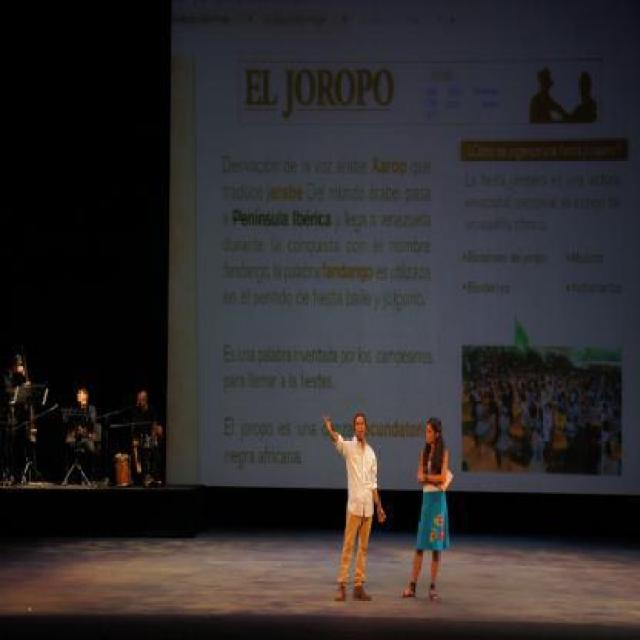Person: (462, 348, 623, 470), (325, 409, 386, 600), (414, 413, 458, 602), (6, 351, 36, 472), (131, 386, 163, 477), (67, 384, 104, 459), (532, 65, 570, 123), (570, 68, 596, 121)
